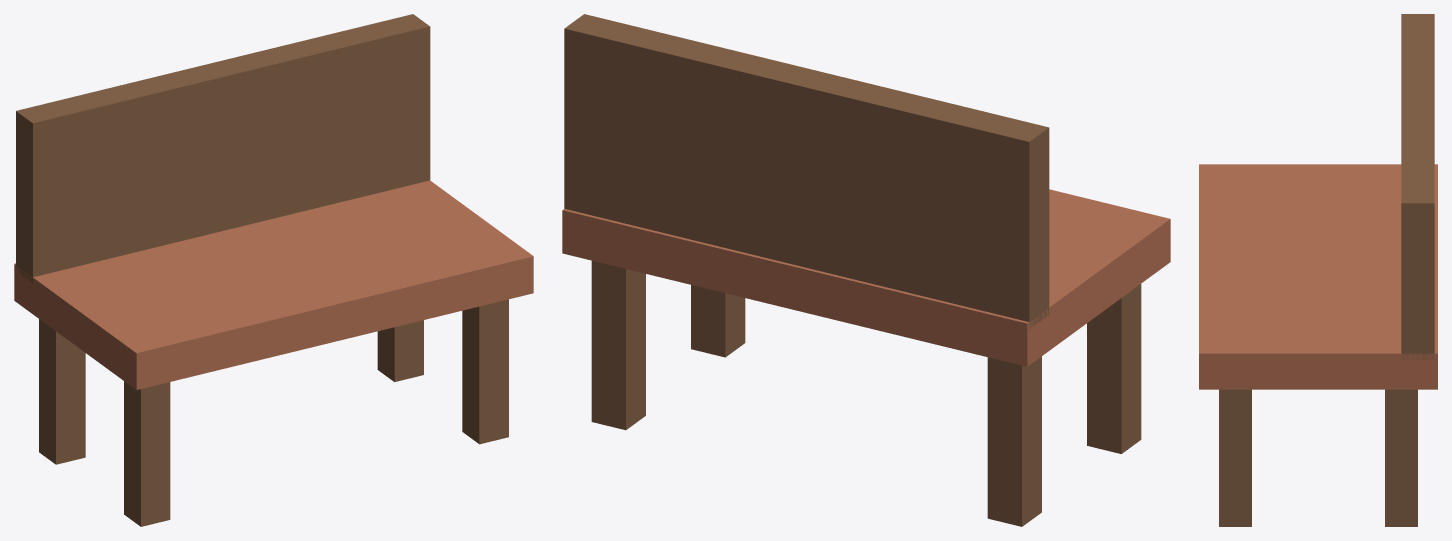
The model's file is prop_bench.glb.
The picture shows the model from 3 angles, left to right: view 1: azimuth 30°, elevation 25°; view 2: azimuth 150°, elevation 25°; view 3: azimuth 270°, elevation 25°; orthographic projection. The views are drawn at different scales.
Visible parts, largest first — view 1: prop_bench; view 2: prop_bench; view 3: prop_bench.
Boxes of the visible parts, box(x1,y1,x2,y2) form: prop_bench: box(14, 14, 533, 526); prop_bench: box(562, 14, 1170, 526); prop_bench: box(1199, 14, 1437, 526).
Bounding box in the file's own units: 1.35 × 1.1 × 0.72.
1 material, 1 textured.
